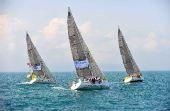fanchuan: (62, 6, 113, 90), (116, 24, 146, 84), (23, 30, 52, 88)
